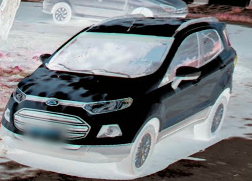car: (1, 15, 237, 171)
